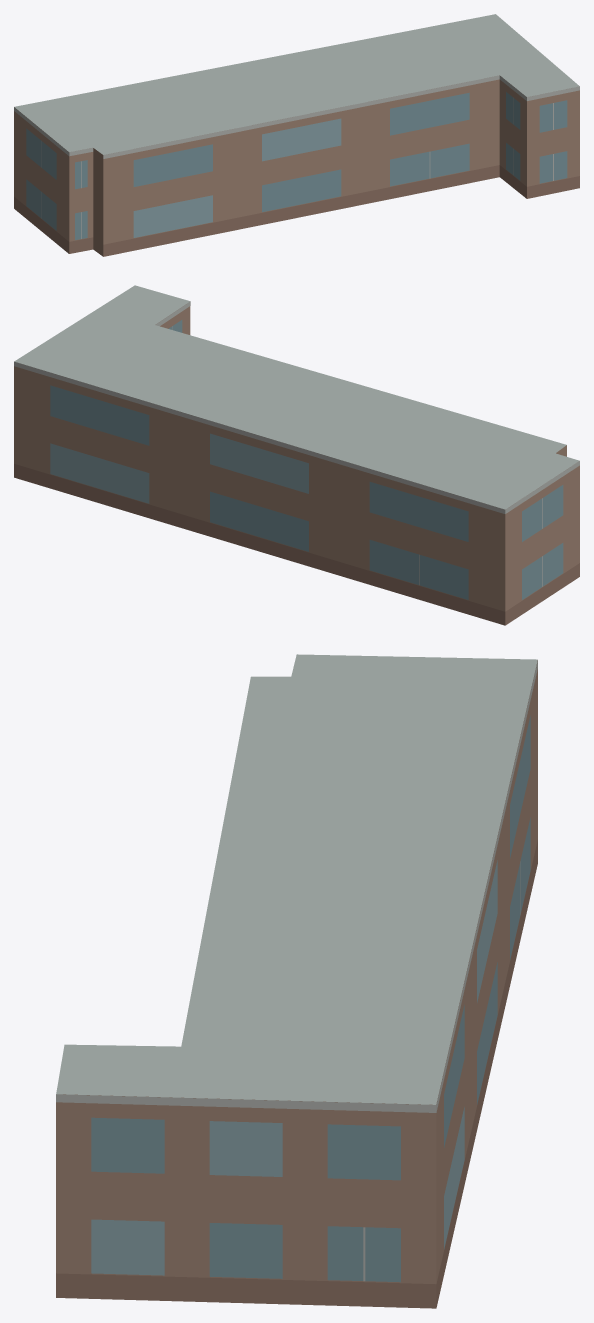
File: survey-upis-32768965.glb
The picture shows the model from 3 angles, top to bottom: view 1: azimuth 30°, elevation 25°; view 2: azimuth 150°, elevation 25°; view 3: azimuth 270°, elevation 25°; orthographic projection. The views are drawn at different scales.
Parts seen in each view (by area): view 1: survey-upis-32768965.tmp; view 2: survey-upis-32768965.tmp; view 3: survey-upis-32768965.tmp.
Boxes of the visible parts, x1,y1,x2,y2 form: survey-upis-32768965.tmp: [14, 14, 579, 256]; survey-upis-32768965.tmp: [14, 285, 579, 625]; survey-upis-32768965.tmp: [56, 654, 537, 1308].
Size of the model in its own units: 28.95 by 6.1 by 13.09.
